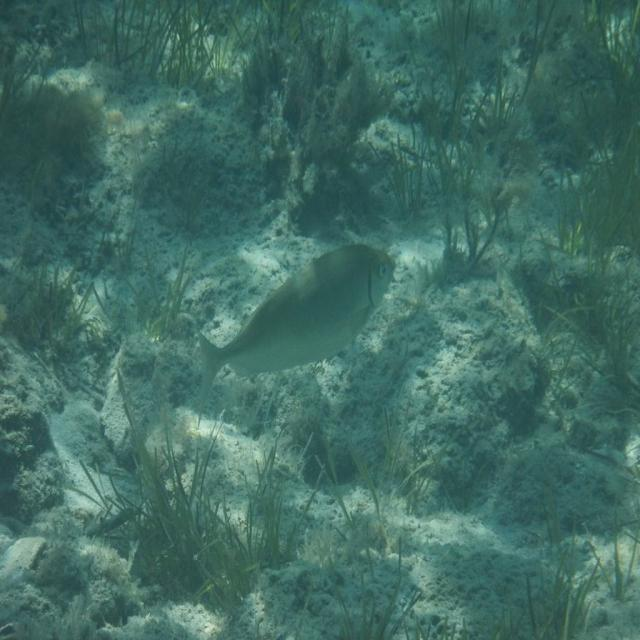Sokar Baligi: (185, 226, 408, 432)
